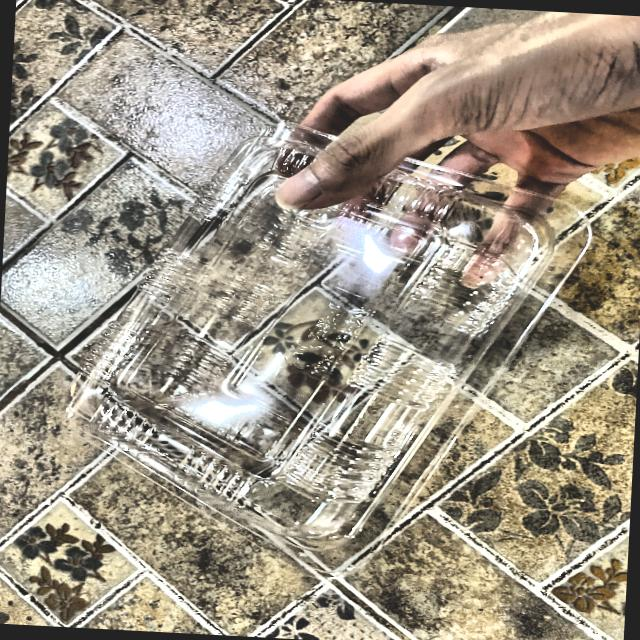plastic container: (60, 99, 607, 558)
